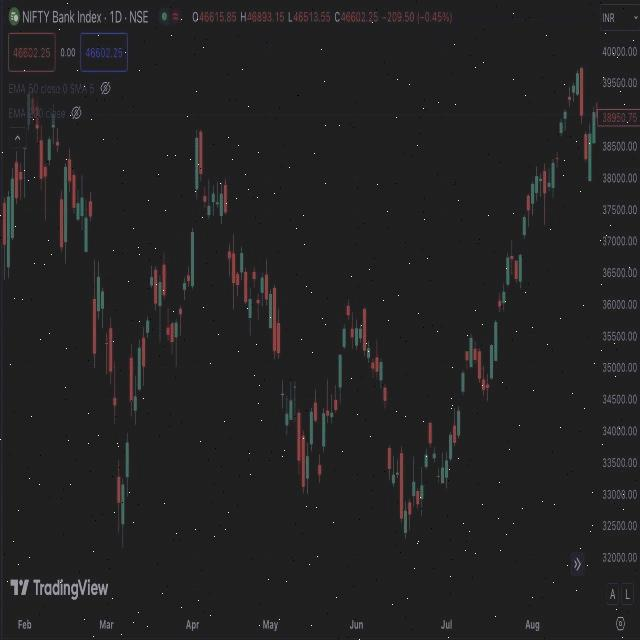Gap Down: (89, 202, 97, 354), (56, 140, 64, 248), (112, 397, 120, 502), (224, 185, 232, 259), (384, 388, 391, 468), (162, 266, 170, 336), (580, 72, 586, 158), (314, 403, 321, 474), (101, 291, 108, 355), (278, 324, 284, 396), (200, 132, 206, 202), (253, 272, 259, 304)
Gap Up: (192, 139, 198, 287), (127, 358, 133, 476), (22, 95, 31, 153), (519, 220, 527, 282), (338, 328, 346, 386), (146, 277, 153, 333), (494, 299, 500, 362), (458, 374, 464, 436), (555, 123, 563, 162), (343, 306, 350, 346), (179, 283, 186, 314), (563, 96, 571, 118)
